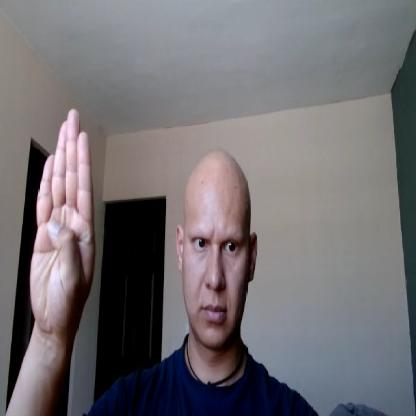B: (29, 105, 96, 324)
